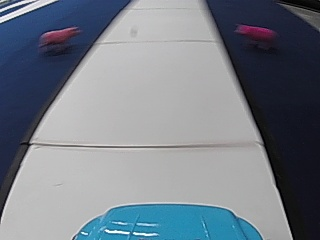pig: (37, 22, 80, 54), (234, 21, 278, 51)
